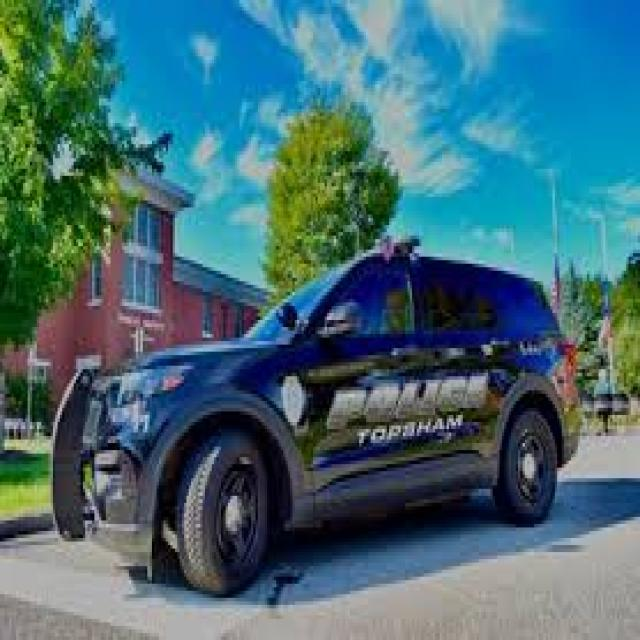cop: (50, 246, 584, 585)
